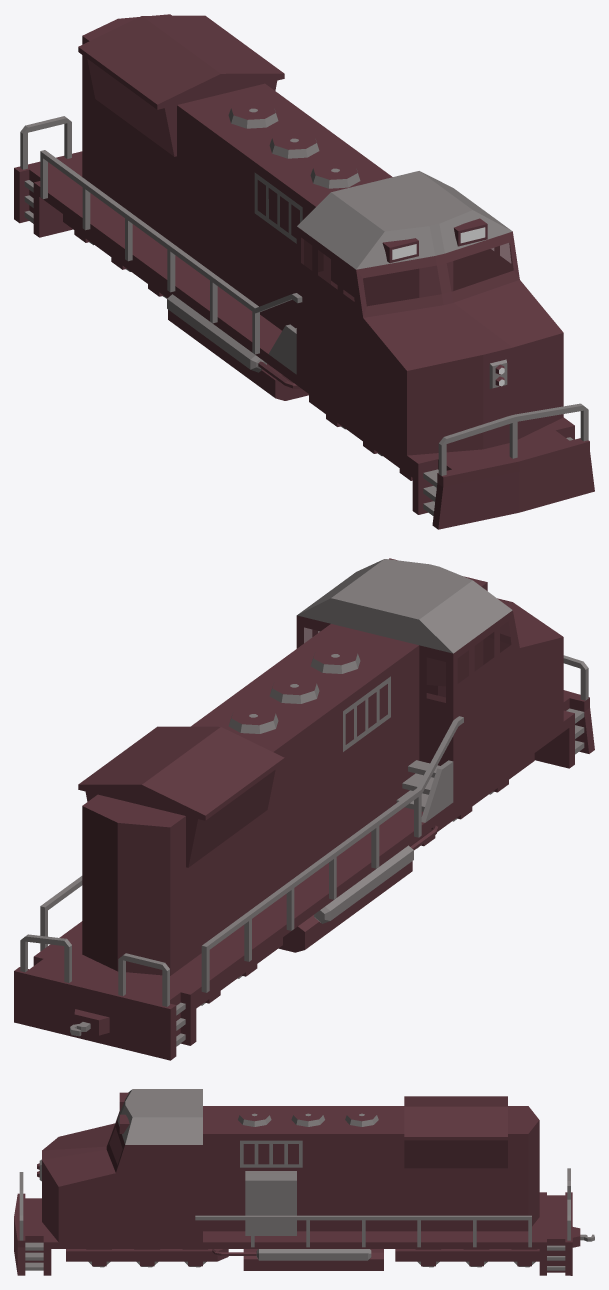
The model's file is train-freight-big.fbx.
The picture shows the model from 3 angles, top to bottom: view 1: azimuth 30°, elevation 25°; view 2: azimuth 150°, elevation 25°; view 3: azimuth 270°, elevation 25°; orthographic projection. The views are drawn at different scales.
Visible parts, largest first — view 1: train-freight-big-base, train-freight-big-base-wheel-frame_B, train-freight-big-base-wheel-frame_F; view 2: train-freight-big-base, train-freight-big-base-wheel-frame_F, train-freight-big-base-wheel-frame_B; view 3: train-freight-big-base, train-freight-big-base-wheel-frame_F, train-freight-big-base-wheel-frame_B.
Part boxes in pixels (x1,y1,x2,y2): train-freight-big-base: [14, 14, 594, 529]; train-freight-big-base-wheel-frame_B: [63, 214, 171, 297]; train-freight-big-base-wheel-frame_F: [309, 394, 412, 480]; train-freight-big-base: [14, 558, 594, 1060]; train-freight-big-base-wheel-frame_F: [409, 753, 534, 846]; train-freight-big-base-wheel-frame_B: [196, 937, 282, 1008]; train-freight-big-base: [14, 1089, 594, 1275]; train-freight-big-base-wheel-frame_F: [66, 1249, 228, 1266]; train-freight-big-base-wheel-frame_B: [395, 1249, 539, 1266].
Bounding box in the file's own units: 3.4 × 4.56 × 15.71.
